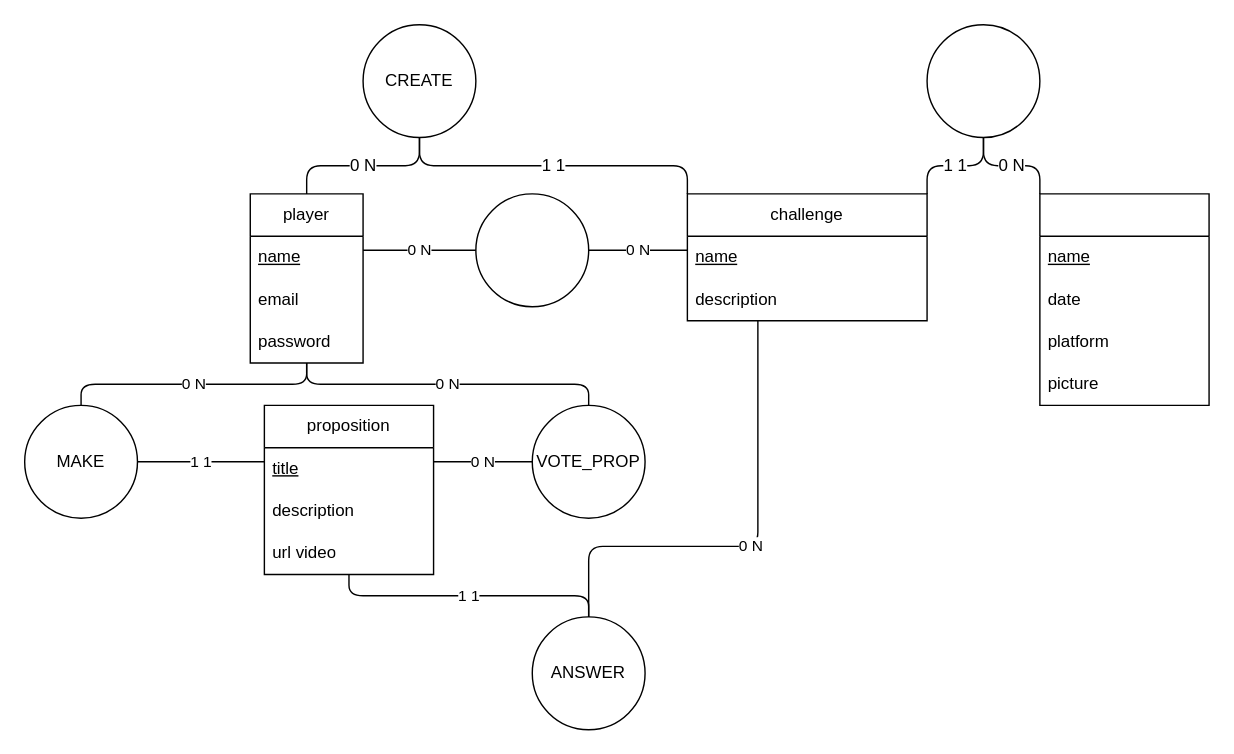
This 1234x754 diagram has some shape labels left out. The box of each missing label's shape, as (x1, y1, x2, y2) in pixels:
game: (1038, 192, 1209, 405)
TAG: (926, 23, 1040, 137)
VOTE_GAME: (474, 192, 589, 307)
